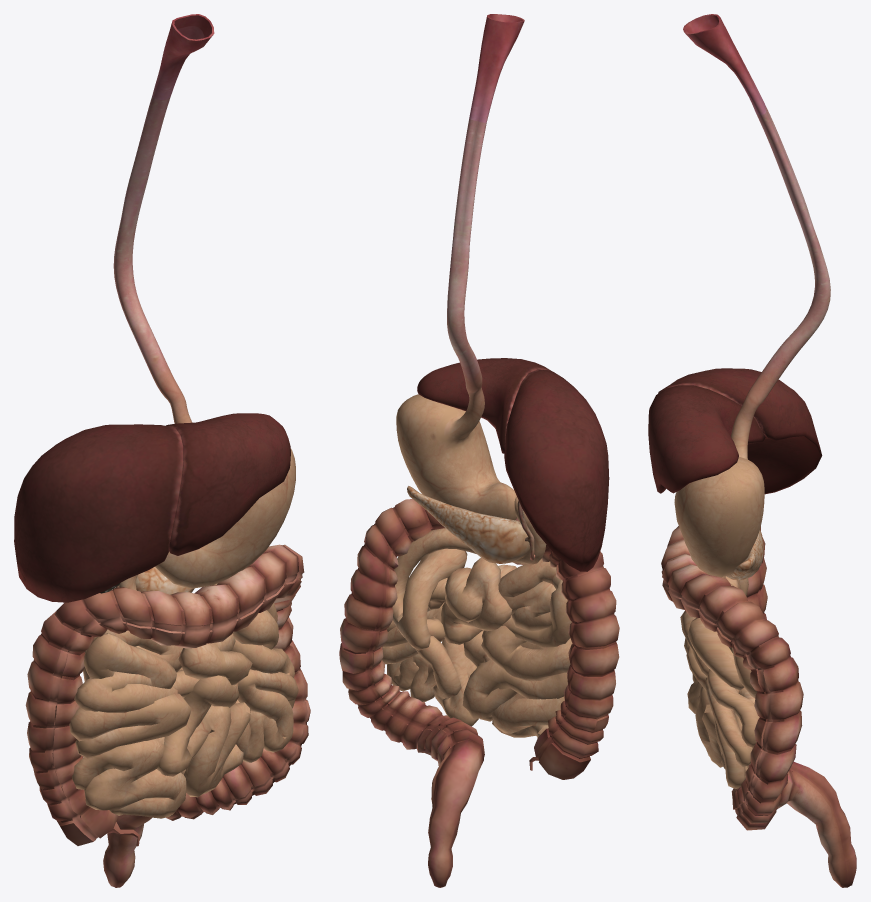
The model's file is digestive_system 1.fbx.
3 views of the same model, side by side, from view 1: azimuth 30°, elevation 25°; view 2: azimuth 150°, elevation 25°; view 3: azimuth 270°, elevation 25° (orthographic). The views are drawn at different scales.
Visible parts, largest first — view 1: DigestiveSystem001; view 2: DigestiveSystem001; view 3: DigestiveSystem001.
Boxes of the visible parts, x1,y1,x2,y2 form: DigestiveSystem001: (14,14,310,887); DigestiveSystem001: (339,14,619,887); DigestiveSystem001: (648,14,856,887).
Size of the model in its own units: 2.27 by 6.77 by 1.48.
1 material, 1 textured.
